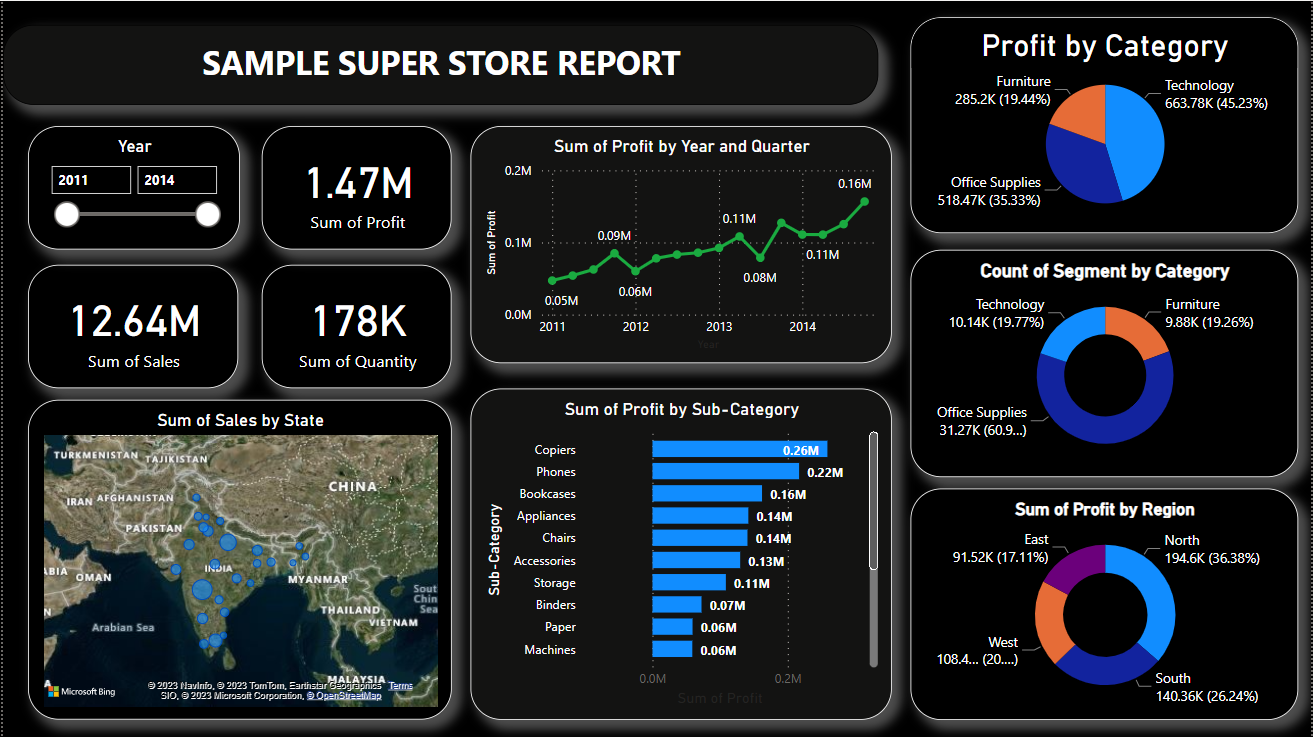

The page's visual inventory and layout, read from the dashboard file:
{"tool":"powerbi","page":{"name":"Page 3","canvas":[1280,720],"ordinal":2},"visuals":[{"type":"pieChart","title":"Profit by Category","fields":{"Category":["Global-Superstore.Category"],"Y":["Sum(Global-Superstore.Profit)"]},"box":[887.5,16.4,378.9,211.5],"z":0},{"type":"donutChart","fields":{"Y":["CountNonNull(Global-Superstore.Segment)"],"Series":["Global-Superstore.Category"]},"box":[887.5,243.7,378.9,222.5],"z":1000},{"type":"donutChart","fields":{"Category":["Global-Superstore.Region"],"Y":["Sum(Global-Superstore.Profit)"]},"box":[887.5,477.2,378.9,226.1],"z":2000},{"type":"textbox","box":[0,23.2,855.7,78.2],"z":3000},{"type":"barChart","fields":{"Category":["Global-Superstore.Sub-Category"],"Y":["Sum(Global-Superstore.Profit)"]},"box":[457.2,378.9,412,323.9],"z":4000},{"type":"lineChart","fields":{"Category":["Global-Superstore.Order Date.Variation.Date Hierarchy.Year","Global-Superstore.Order Date.Variation.Date Hierarchy.Quarter"],"Y":["Sum(Global-Superstore.Profit)"]},"box":[456.9,122.7,412,232.3],"z":5000},{"type":"card","fields":{"Values":["Sum(Global-Superstore.Sales)"]},"box":[24.4,257.9,205.4,121],"z":6000},{"type":"card","fields":{"Values":["Sum(Global-Superstore.Quantity)"]},"box":[253,257.9,185.8,121],"z":7000},{"type":"card","fields":{"Values":["Sum(Global-Superstore.Profit)"]},"box":[253,122.2,185.8,121],"z":8000},{"type":"map","fields":{"Category":["Global-Superstore.State","Global-Superstore.Country"],"Size":["Sum(Global-Superstore.Sales)"]},"box":[24.4,389.9,414.4,312.9],"z":9000},{"type":"slicer","title":"Year","fields":{"Values":["Global-Superstore.Order Date.Variation.Date Hierarchy.Year"]},"box":[24.7,122,207,120.7],"z":10000}]}

Visuals, with their boxes in screenshot pixels (x1, y1, x2, y2), scaled from the page's 1280x720 canvas onto the 1313x737 screenshot:
"Profit by Category" pieChart: box(910, 17, 1299, 233)
donutChart - CountNonNull(Global-Superstore.Segment) x Global-Superstore.Category: box(910, 249, 1299, 477)
donutChart - Global-Superstore.Region x Sum(Global-Superstore.Profit): box(910, 488, 1299, 720)
textbox: box(0, 24, 878, 104)
barChart - Global-Superstore.Sub-Category x Sum(Global-Superstore.Profit): box(469, 388, 892, 719)
lineChart - Global-Superstore.Order Date.Variation.Date Hierarchy.Year x Global-Superstore.Order Date.Variation.Date Hierarchy.Quarter: box(469, 126, 891, 363)
card - Sum(Global-Superstore.Sales): box(25, 264, 236, 388)
card - Sum(Global-Superstore.Quantity): box(260, 264, 450, 388)
card - Sum(Global-Superstore.Profit): box(260, 125, 450, 249)
map - Global-Superstore.State x Global-Superstore.Country: box(25, 399, 450, 719)
"Year" slicer: box(25, 125, 238, 248)
